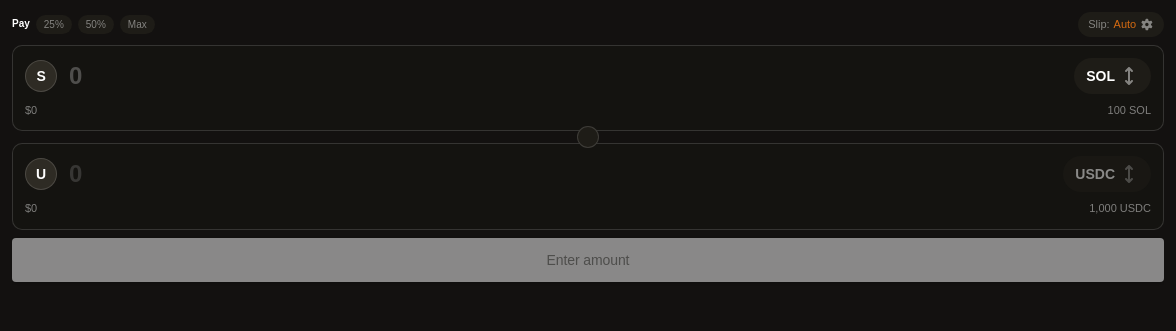
Scenario: SwapWidget › Quote Fetching › should show refresh button when quote exists
Type "10" into the field named "enter sol amount" at (566, 76), box [69,60,1062,92]
Wait 500 ms
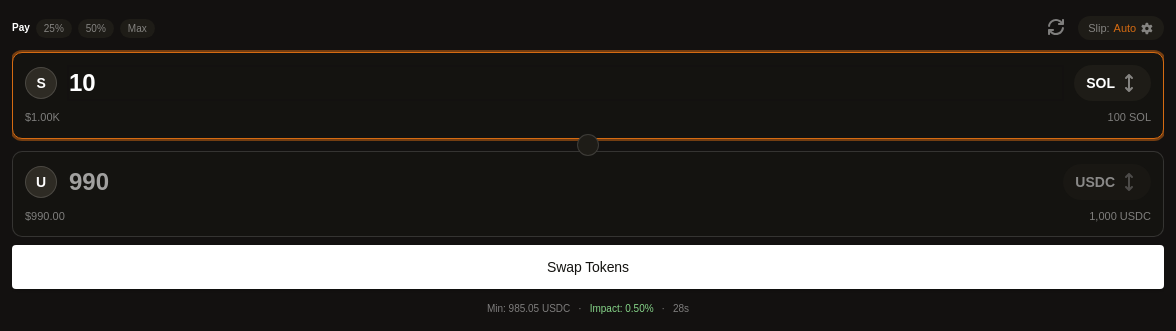
Expected: the button named "refresh quote" is shown, [1042,12,1070,44]
